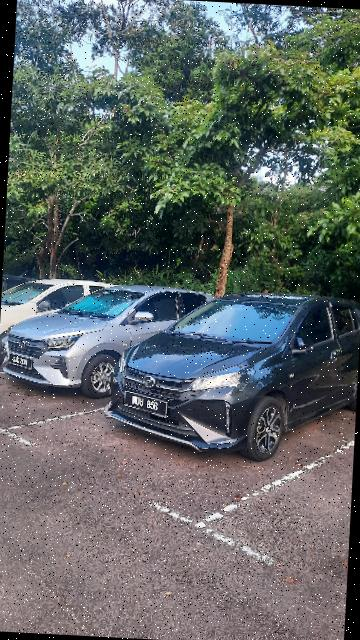License_Plate: (122, 390, 173, 421), (7, 354, 40, 373)
car: (104, 281, 360, 468), (1, 277, 223, 408)
